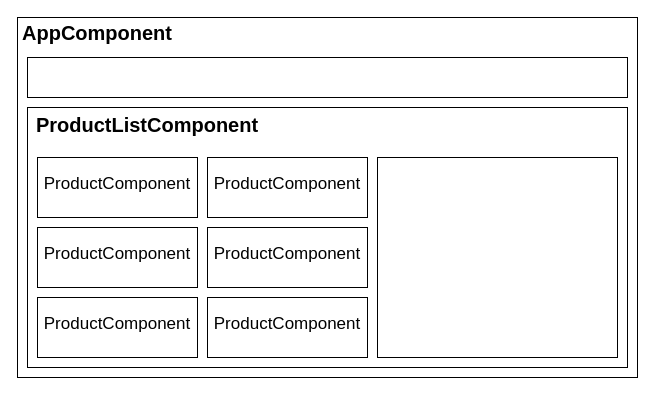
Image size: 655x395. Some labels were removed from this diagram. The shapes that lost their labels are listed below. From the top down, each one's centre as x and y in pixels, then its label:
At pixel 327 77: "NavComponent".
At pixel 497 257: "CartComponent".
